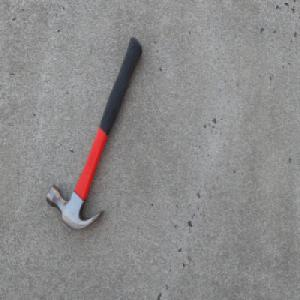Hammer: (45, 36, 142, 233)
